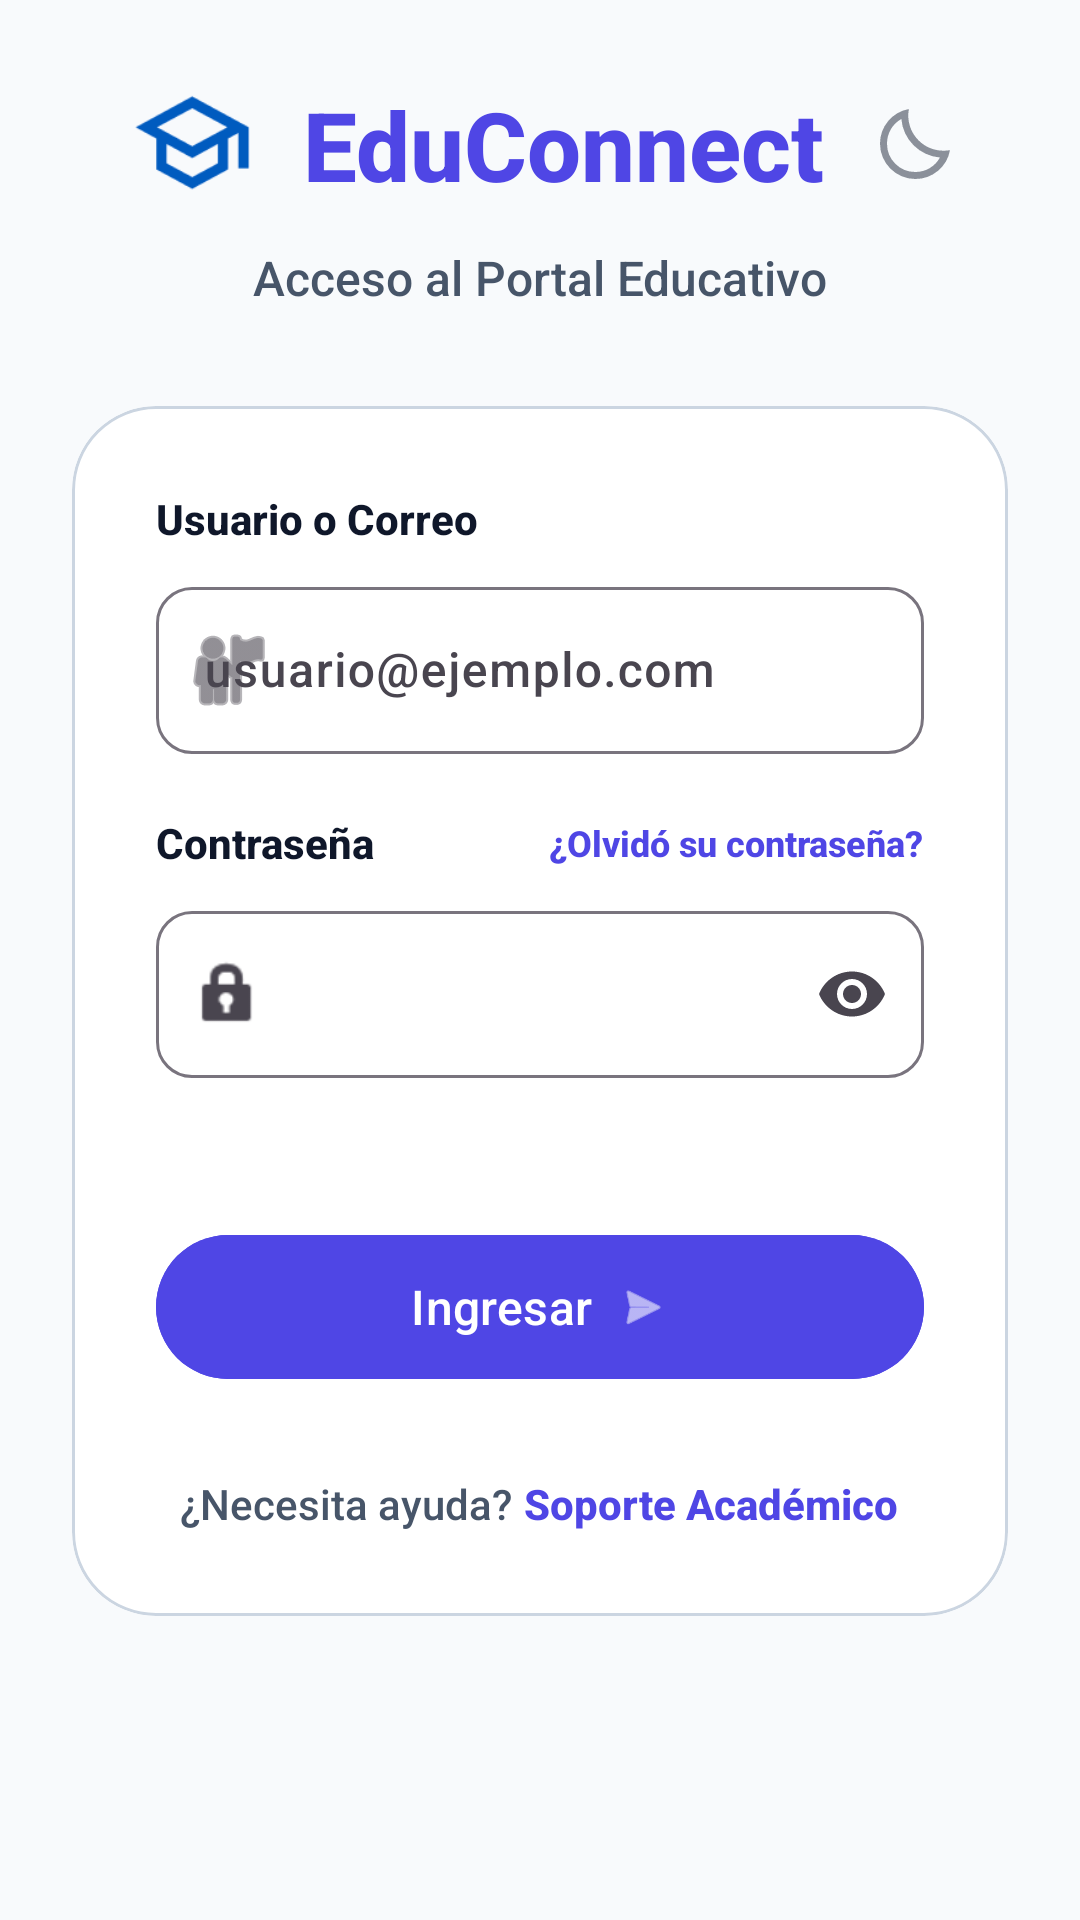

Screen size 1080×1920. Icon name, then its center in pixels as (x,y):
moon: (915,144)
